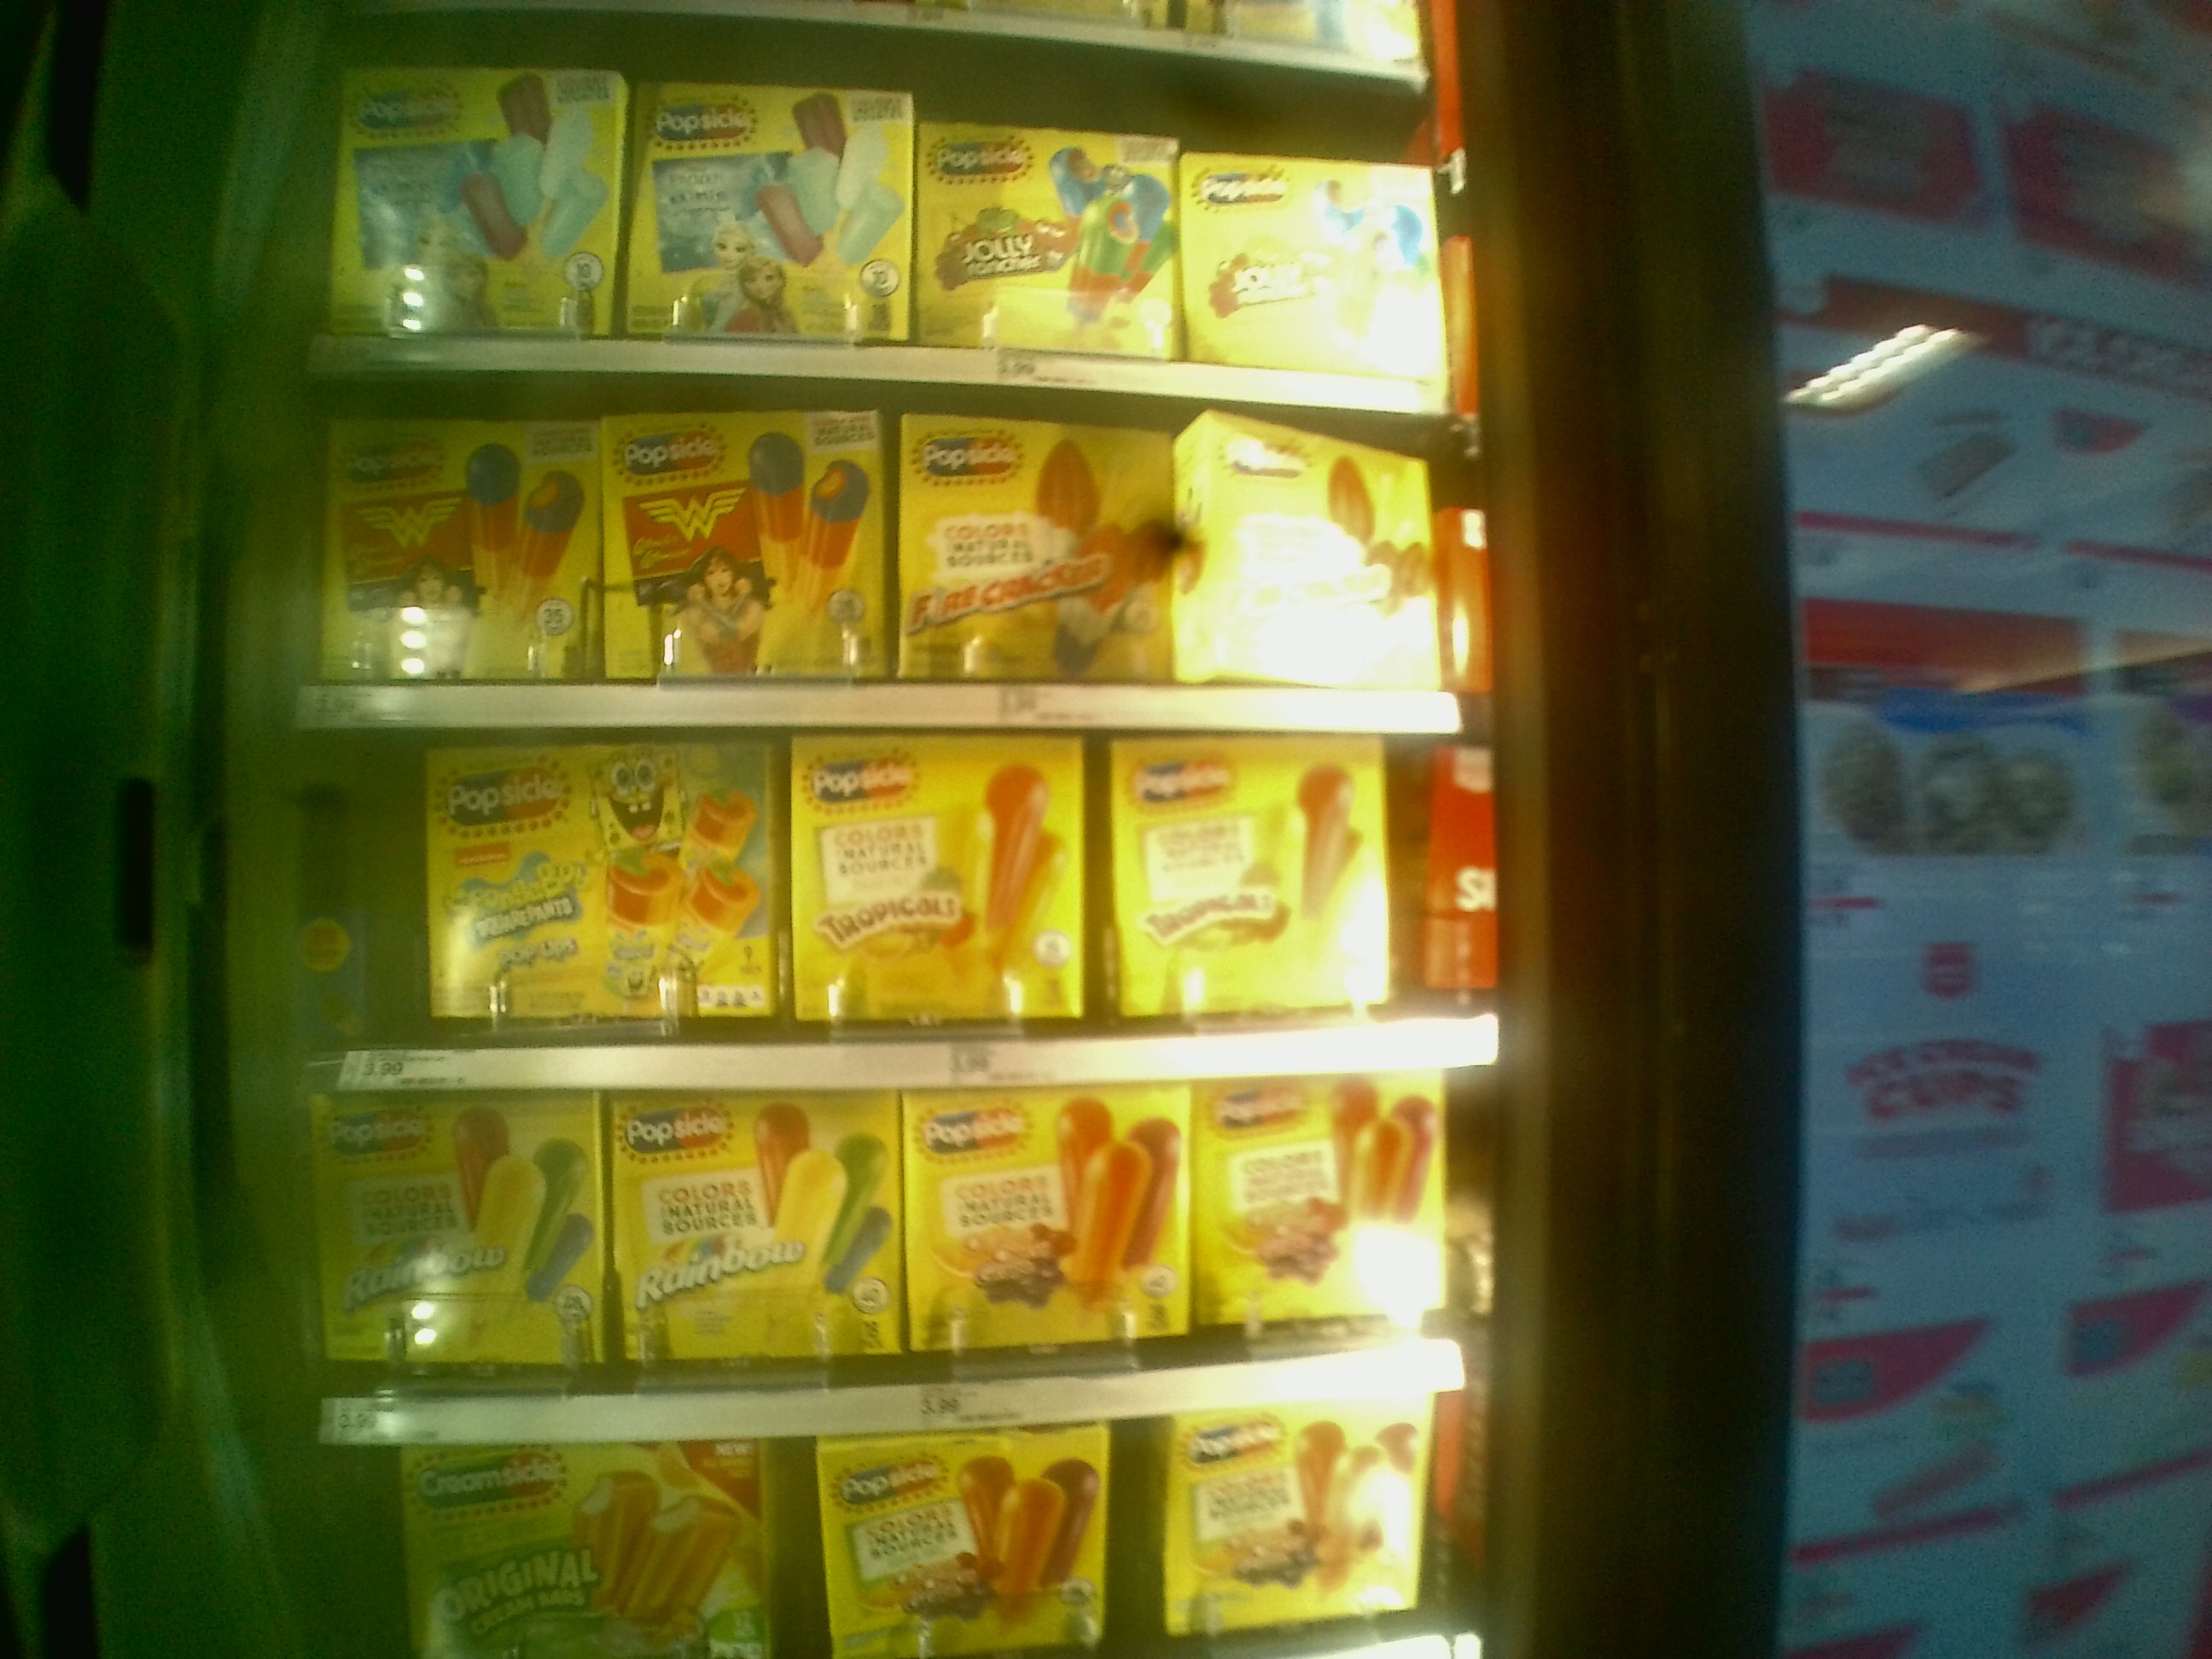frozen-food-shelf: (296, 380, 1482, 742), (301, 1098, 1486, 1446), (300, 744, 1496, 1086)
